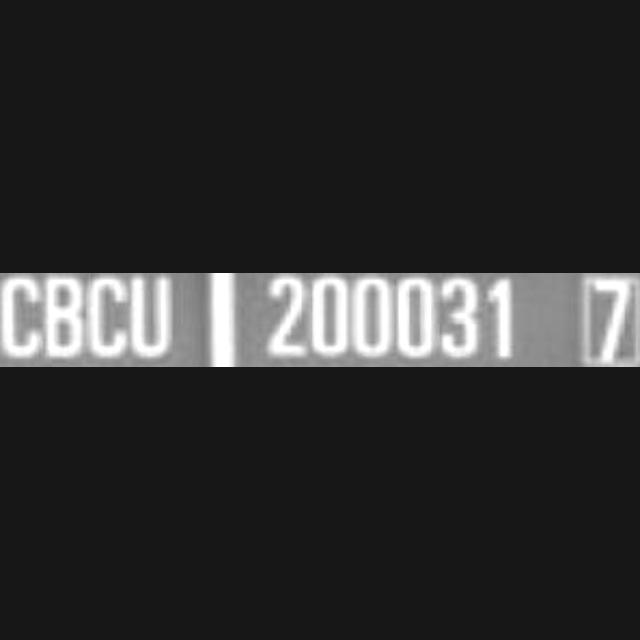0: (438, 273, 480, 367), (396, 273, 436, 367), (352, 273, 392, 365), (311, 273, 349, 367)
1: (584, 278, 636, 368), (484, 273, 520, 367)
2: (268, 273, 310, 367)
b: (43, 273, 87, 367)
c: (85, 273, 131, 367), (1, 273, 44, 367)
u: (129, 273, 173, 367)
